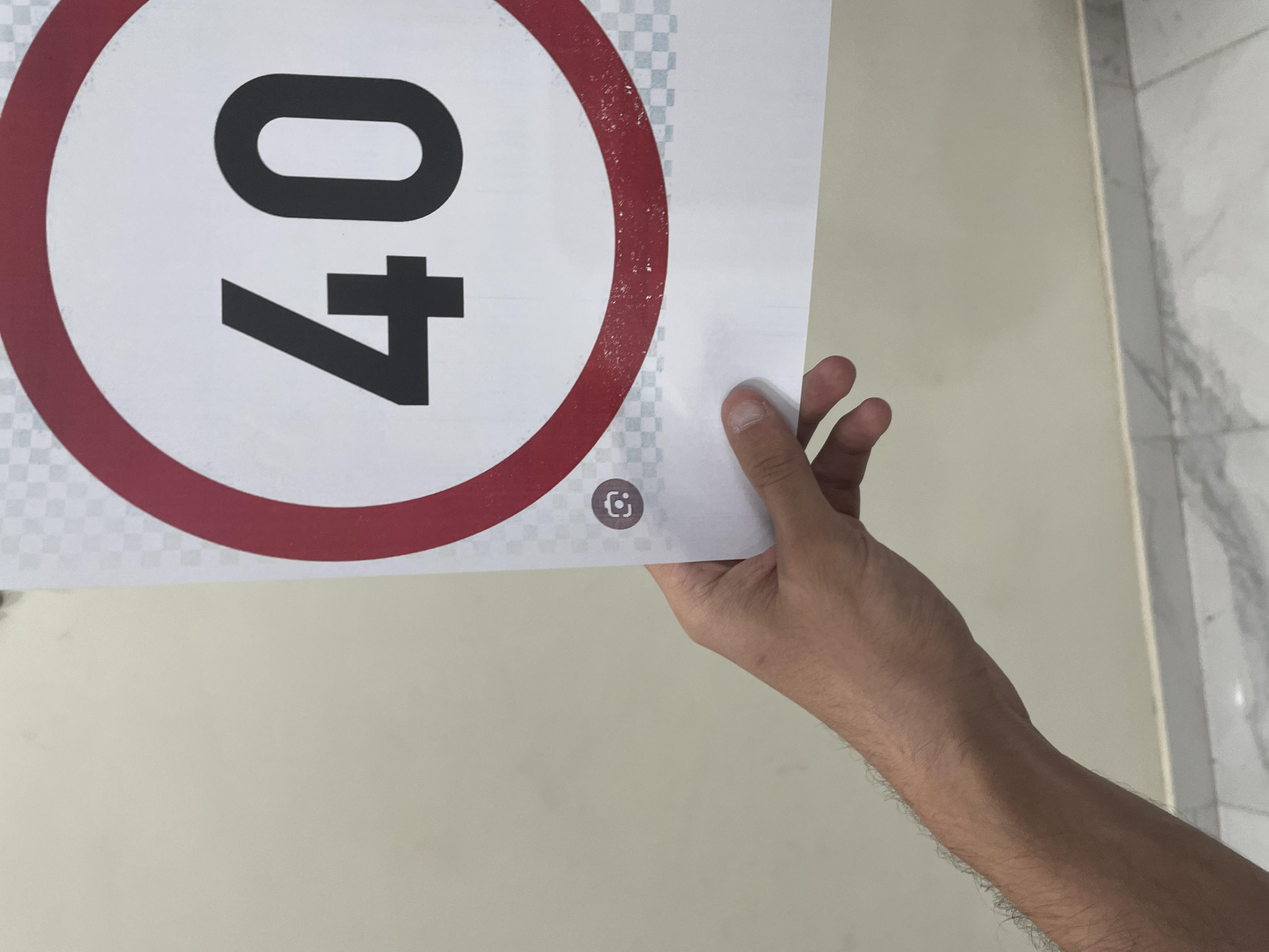40-Speed: (496, 8, 1269, 509)
